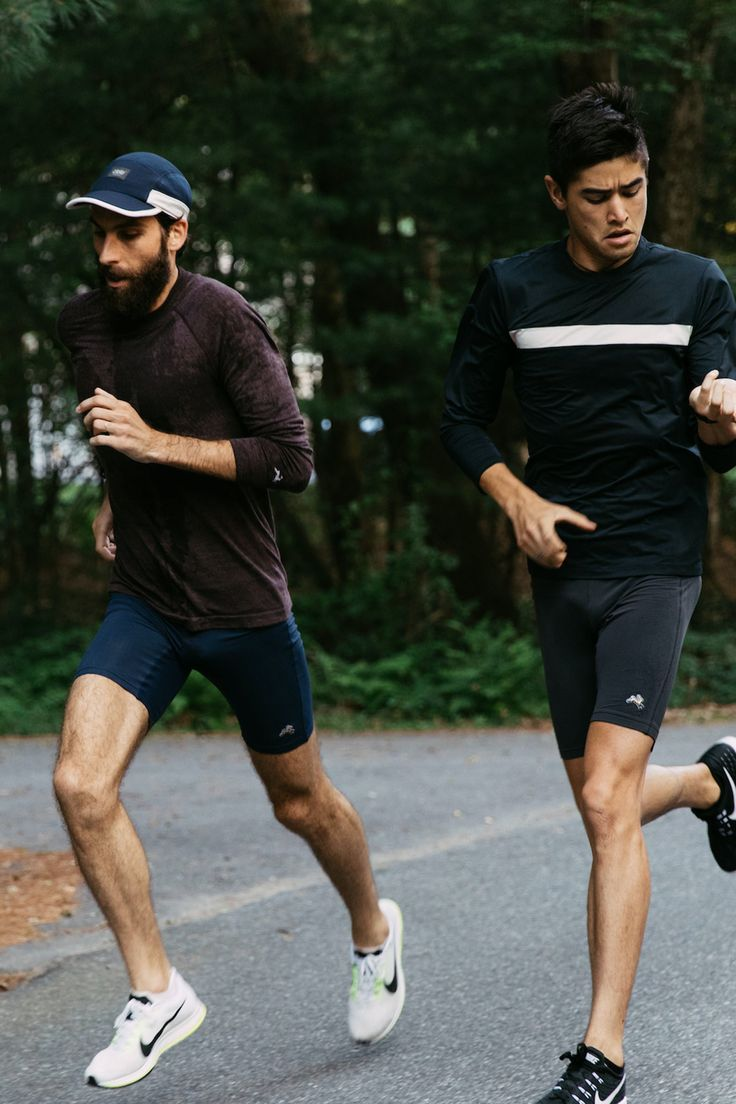egg: (73, 110, 661, 993)
